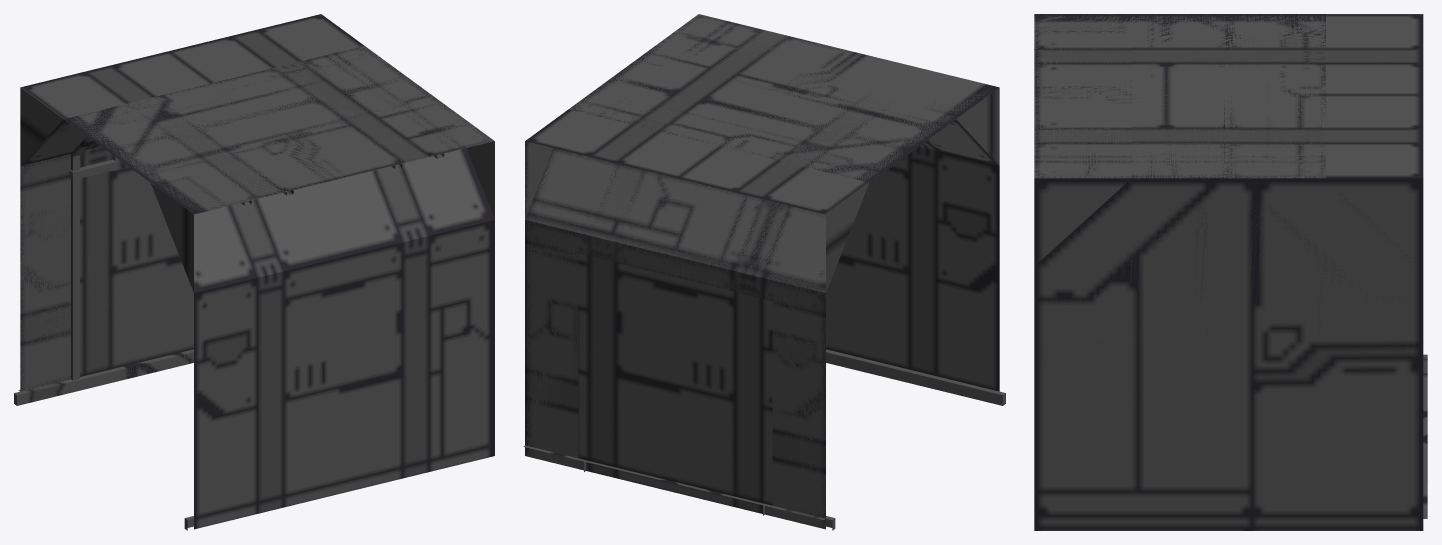
File: MechHanger_02.fbx
3 renders of one model, left to right at view 1: azimuth 30°, elevation 25°; view 2: azimuth 150°, elevation 25°; view 3: azimuth 270°, elevation 25°, orthographic. The views are drawn at different scales.
Visible parts, largest first — view 1: Hallway_Overhang, Wall_Overhang.001, Ceiling_01, Wall_Overhang; view 2: Wall_Overhang, Wall_Overhang.001, Hallway_Overhang, Ceiling_01, Wall_03; view 3: Wall_04, Ceiling_01, Wall_Overhang, Hallway_Overhang, Wall_Overhang.001, Wall_02.
Part boxes in pixels (left/top/right/bottom): Hallway_Overhang: left=14, top=47, right=494, bottom=530; Wall_Overhang.001: left=18, top=46, right=494, bottom=403; Ceiling_01: left=20, top=14, right=493, bottom=214; Wall_Overhang: left=19, top=46, right=491, bottom=403; Wall_Overhang: left=525, top=14, right=997, bottom=528; Wall_Overhang.001: left=523, top=14, right=998, bottom=529; Hallway_Overhang: left=525, top=46, right=1005, bottom=530; Ceiling_01: left=525, top=14, right=996, bottom=214; Wall_03: left=525, top=141, right=551, bottom=217; Wall_04: left=1034, top=178, right=1423, bottom=530; Ceiling_01: left=1034, top=14, right=1423, bottom=178; Wall_Overhang: left=1034, top=14, right=1427, bottom=518; Hallway_Overhang: left=1131, top=14, right=1325, bottom=178; Wall_Overhang.001: left=1034, top=14, right=1427, bottom=518; Wall_02: left=1034, top=178, right=1422, bottom=392.
Bounding box in the file's own units: 2042 × 2000 × 2023.
